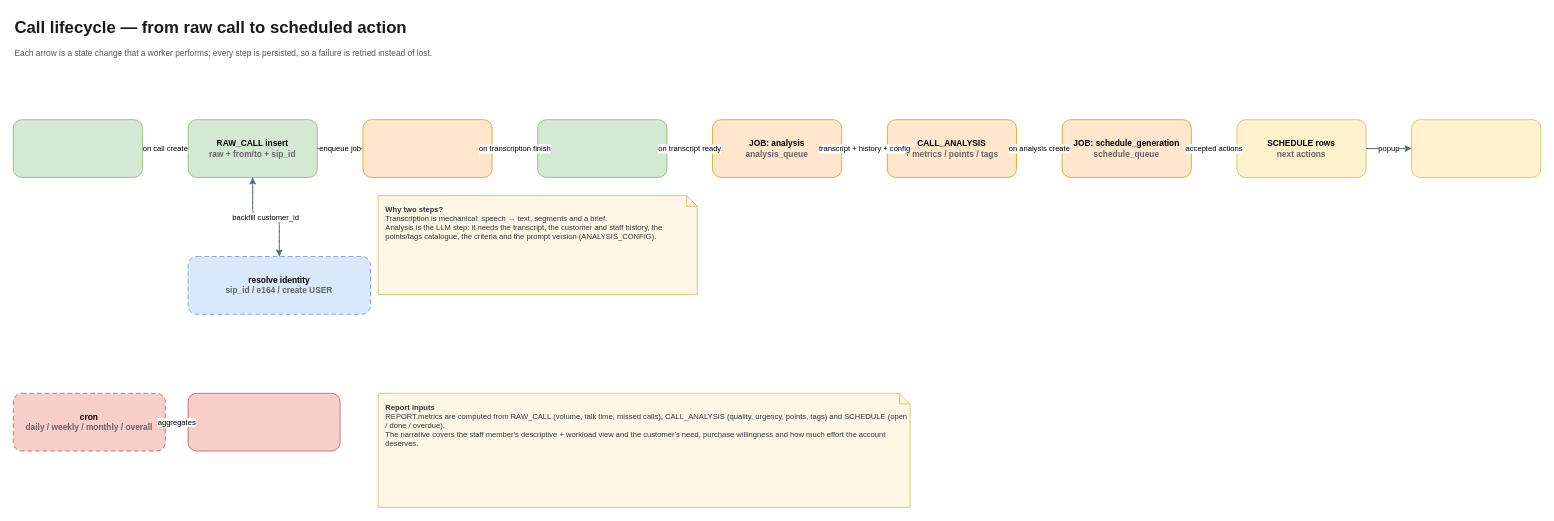
This 1554x521 diagram has some shape labels left out. Each missing label, with the centre of its shape:
"Call arrives SIP INVITE" belongs at point (77, 148).
"JOB: transcription transcription_queue" belongs at point (427, 148).
"NOTIFICATION popup to staff" belongs at point (1476, 148).
"REPORT metrics + narrative" belongs at point (263, 422).
"TRANSCRIPT + segments + brief" belongs at point (602, 148).
